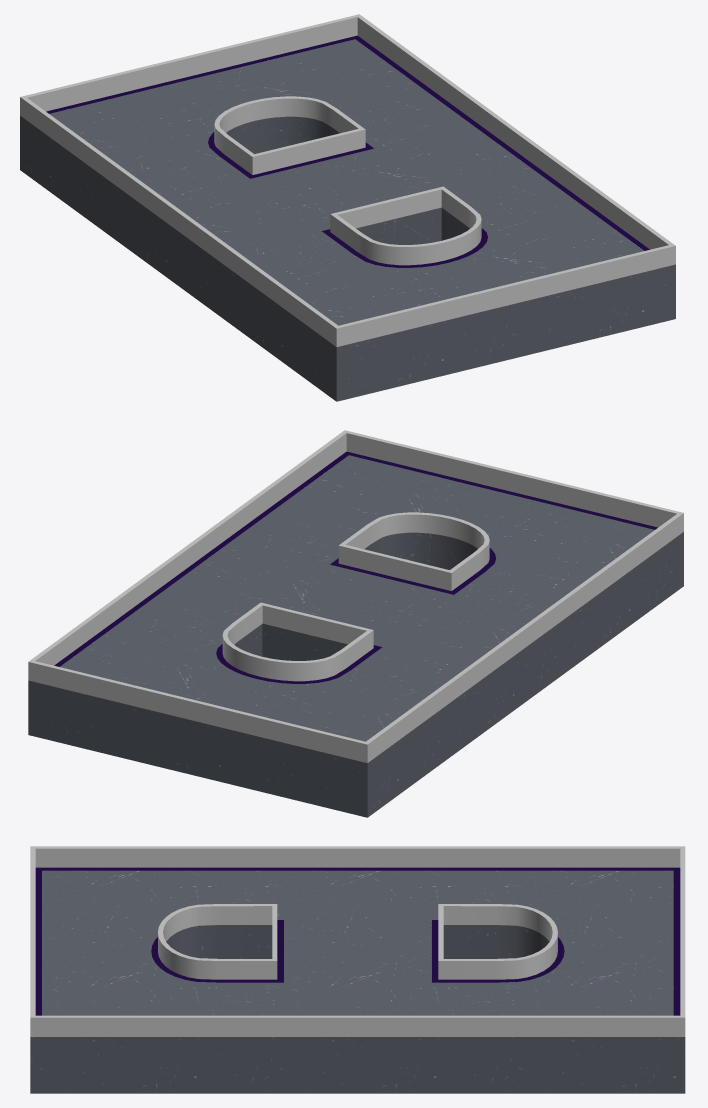
The model's file is Duel_Stage 7.fbx.
The picture shows the model from 3 angles, top to bottom: view 1: azimuth 30°, elevation 25°; view 2: azimuth 150°, elevation 25°; view 3: azimuth 270°, elevation 25°; orthographic projection. The views are drawn at different scales.
Parts seen in each view (by area): view 1: Cylinder.031, Cylinder.006, Cylinder.009; view 2: Cylinder.031, Cylinder.006, Cylinder.009; view 3: Cylinder.031, Cylinder.006, Cylinder.009.
Boxes of the visible parts, left/top/right/bottom form: Cylinder.031: left=20, top=39, right=675, bottom=401; Cylinder.006: left=20, top=14, right=675, bottom=346; Cylinder.009: left=46, top=35, right=649, bottom=267; Cylinder.031: left=28, top=455, right=683, bottom=817; Cylinder.006: left=28, top=430, right=683, bottom=762; Cylinder.009: left=54, top=451, right=657, bottom=683; Cylinder.031: left=30, top=870, right=685, bottom=1093; Cylinder.006: left=30, top=846, right=685, bottom=1036; Cylinder.009: left=35, top=867, right=680, bottom=1015.
Size of the model in its own units: 4042 by 804 by 6545.
